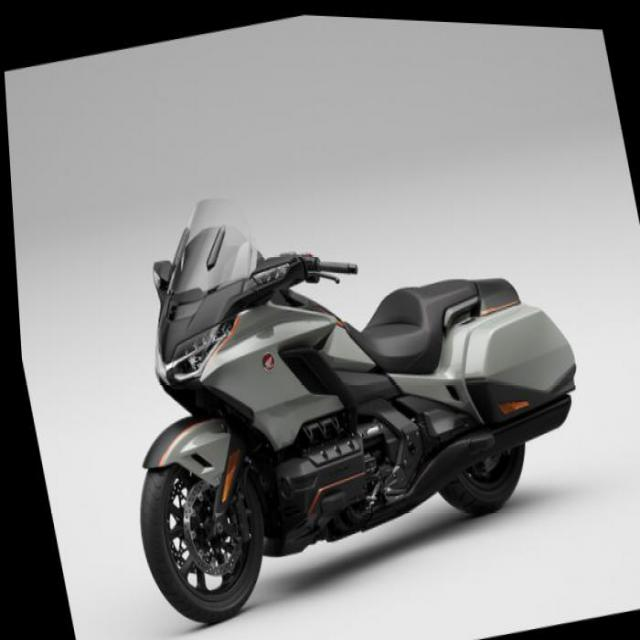Gold Wing: (70, 108, 616, 639)
